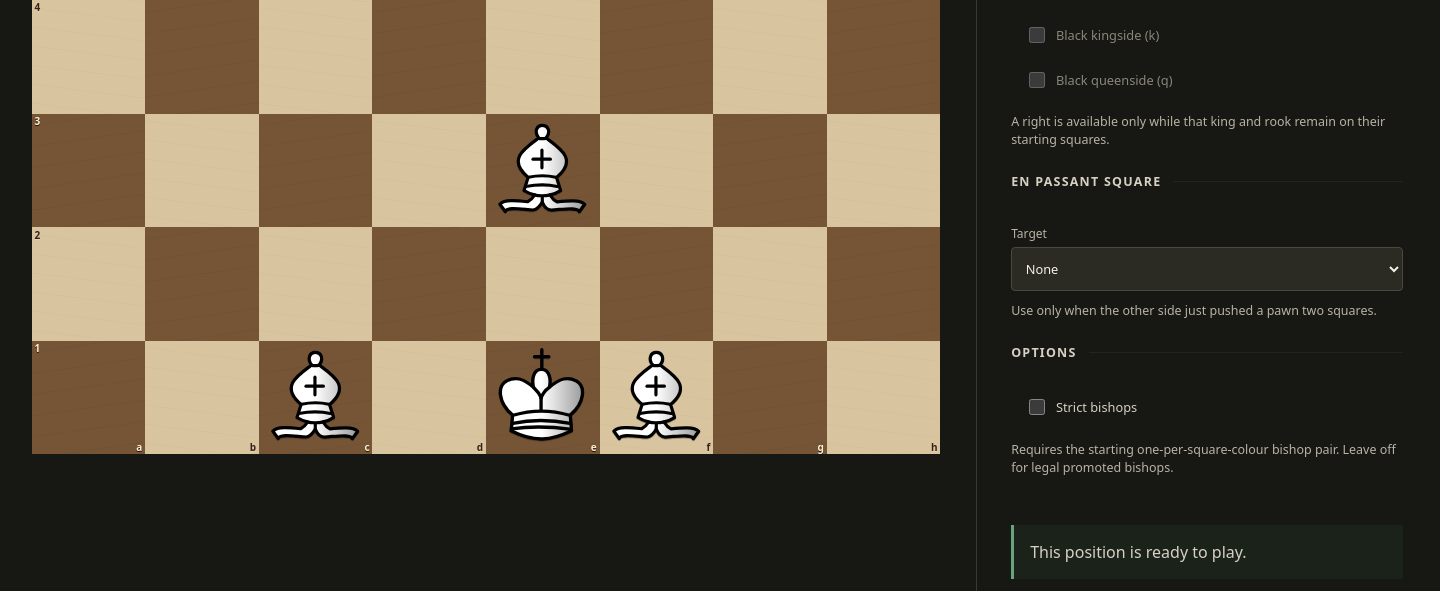
strict bishops › rejects the same position once strict bishops is ticked
(page scrolled)
Click the checkbox labelled "Strict bishops": [1037, 407] box x1=1029 y1=399 x2=1045 y2=415
(page scrolled)
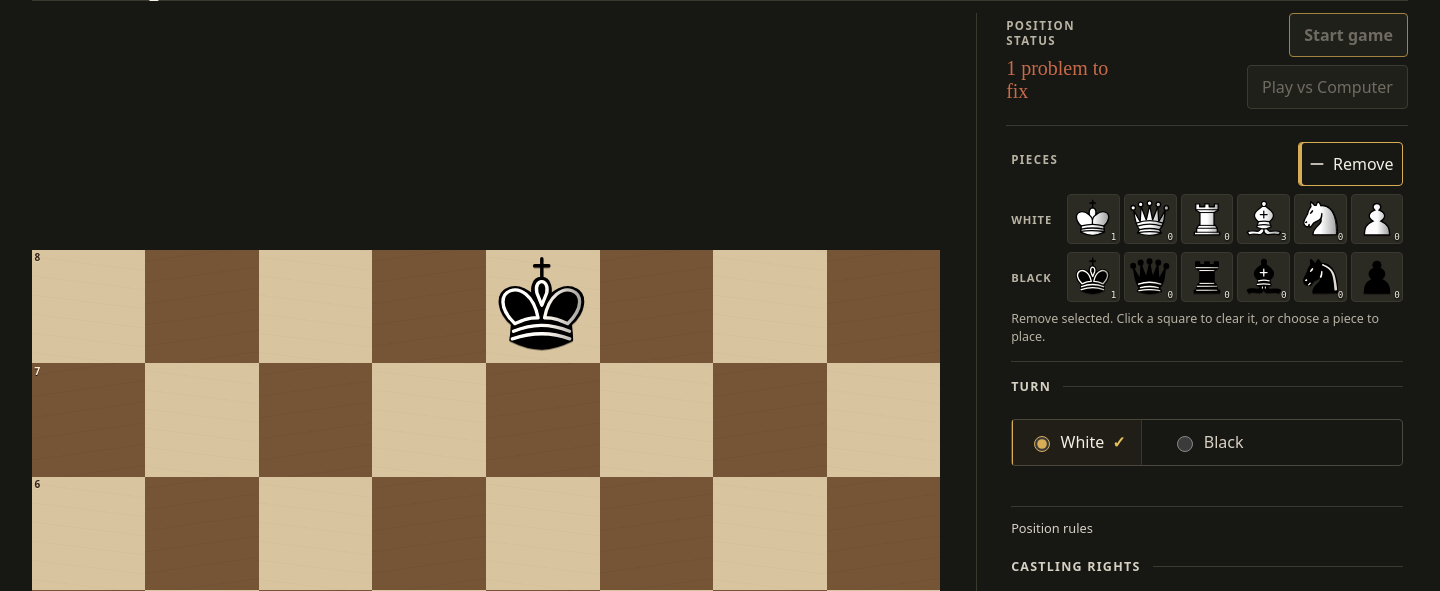
Result: the button "Start game" is disabled at x1=1289 y1=13 x2=1408 y2=57
